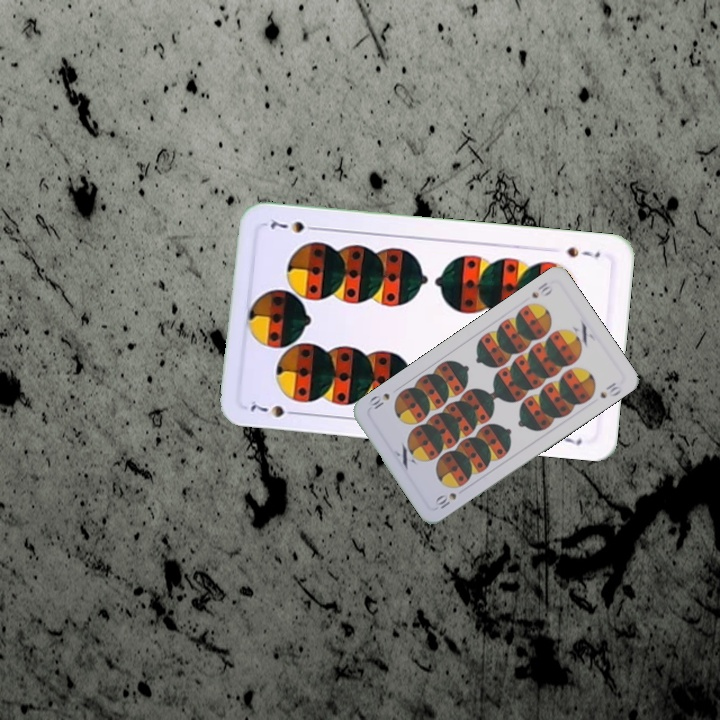S10: (527, 278, 555, 301), (433, 488, 459, 512)
S7: (246, 396, 302, 420), (562, 242, 603, 261)
